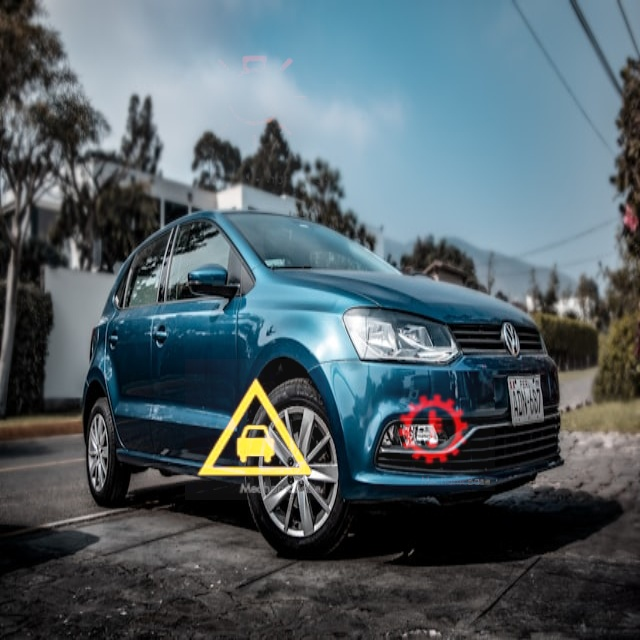symbol: (168, 16, 345, 193), (185, 359, 326, 500), (373, 369, 495, 491)
